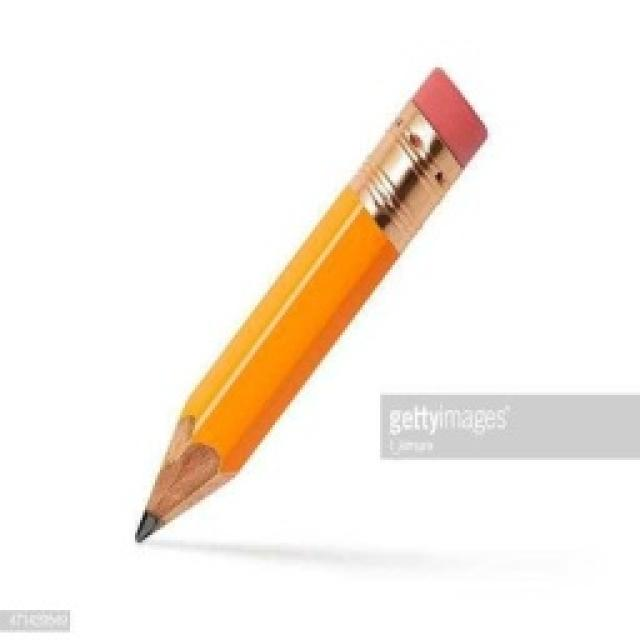pencil: (130, 63, 490, 545)
